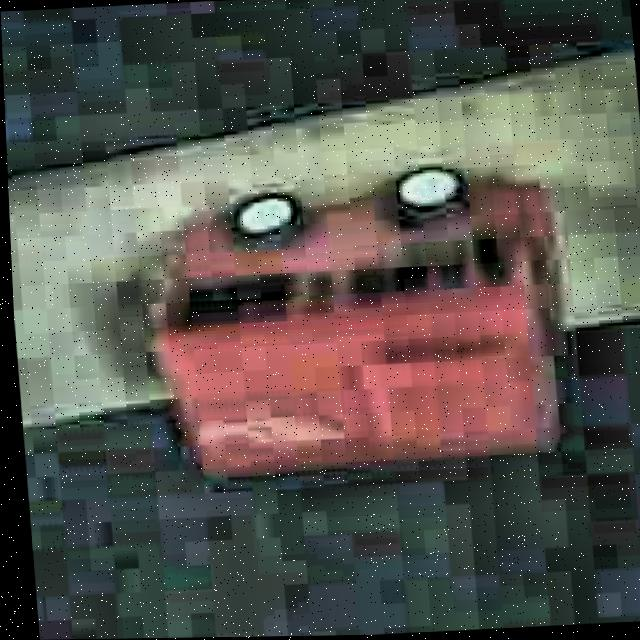bus: (139, 156, 578, 486)
